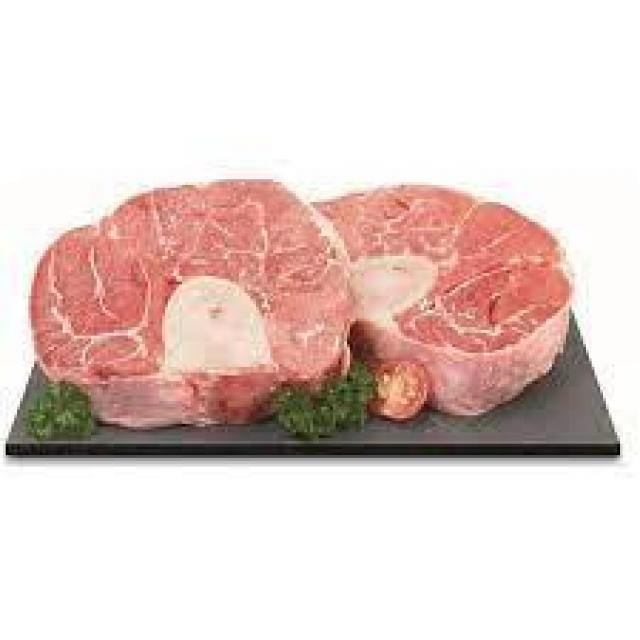beef: (22, 169, 356, 373)
